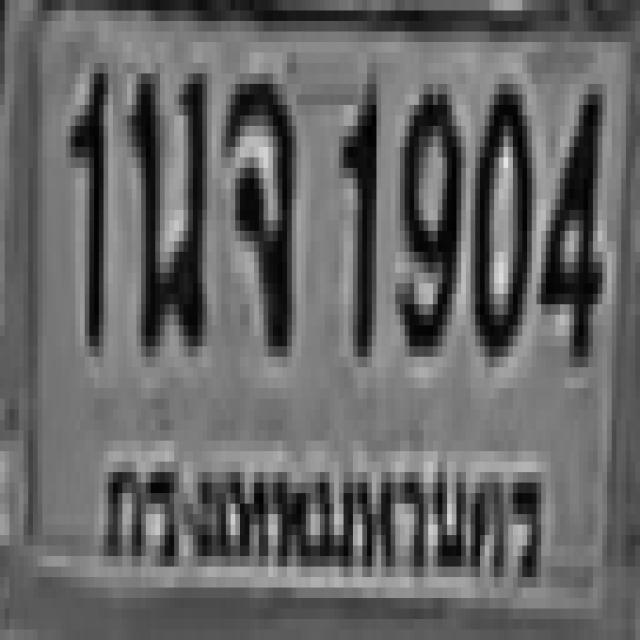0: (471, 74, 527, 346)
1: (66, 58, 103, 341), (339, 74, 376, 346)
17ChorChan: (221, 74, 292, 346)
34NorNu: (127, 63, 202, 346)
4: (536, 73, 598, 357)
9: (396, 74, 456, 346)
Bangkok: (91, 440, 550, 592)
